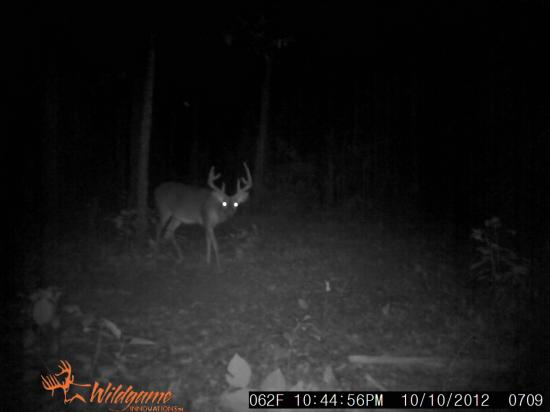deer: (121, 113, 258, 282)
